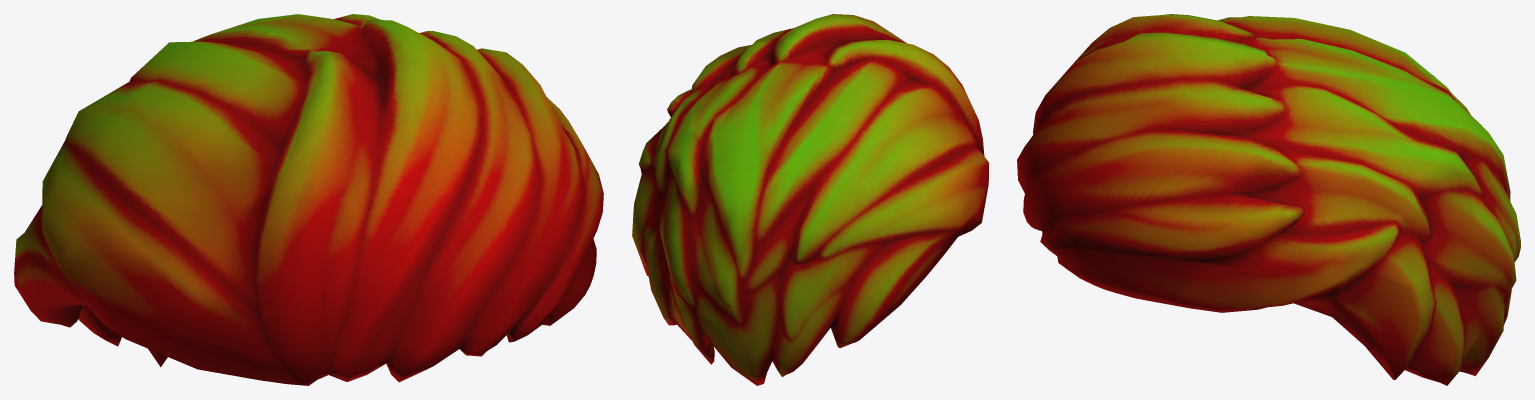
Rendered from HairFront_QuicklyHair.obj.
3 views of the same model, side by side, from view 1: azimuth 30°, elevation 25°; view 2: azimuth 150°, elevation 25°; view 3: azimuth 270°, elevation 25° (orthographic). The views are drawn at different scales.
Visible parts, largest first — view 1: HairFront_QuicklyHair_0; view 2: HairFront_QuicklyHair_0; view 3: HairFront_QuicklyHair_0.
Part boxes in pixels (<box>): HairFront_QuicklyHair_0: <box>14,14,603,385</box>; HairFront_QuicklyHair_0: <box>632,14,988,385</box>; HairFront_QuicklyHair_0: <box>1017,14,1520,385</box>.
Bounding box in the file's own units: 0.2178 × 0.1864 × 0.2391.
Materials: 1 (1 with a texture image).
